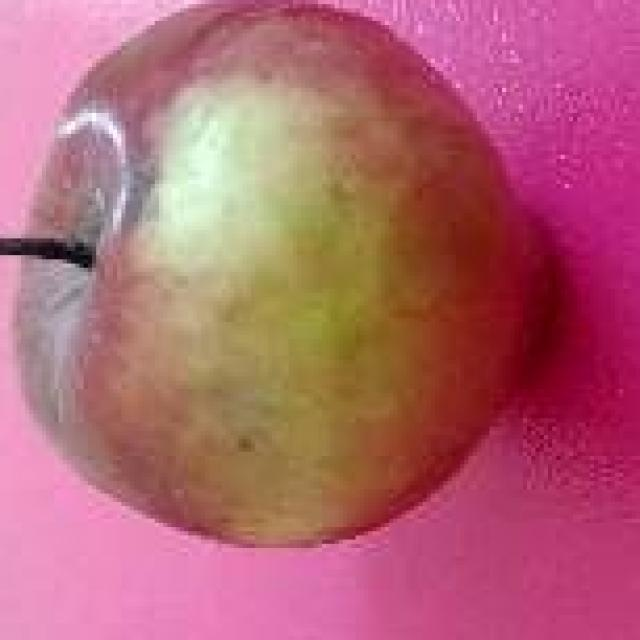Good_Apple 10-21 days: (19, 0, 548, 545)
